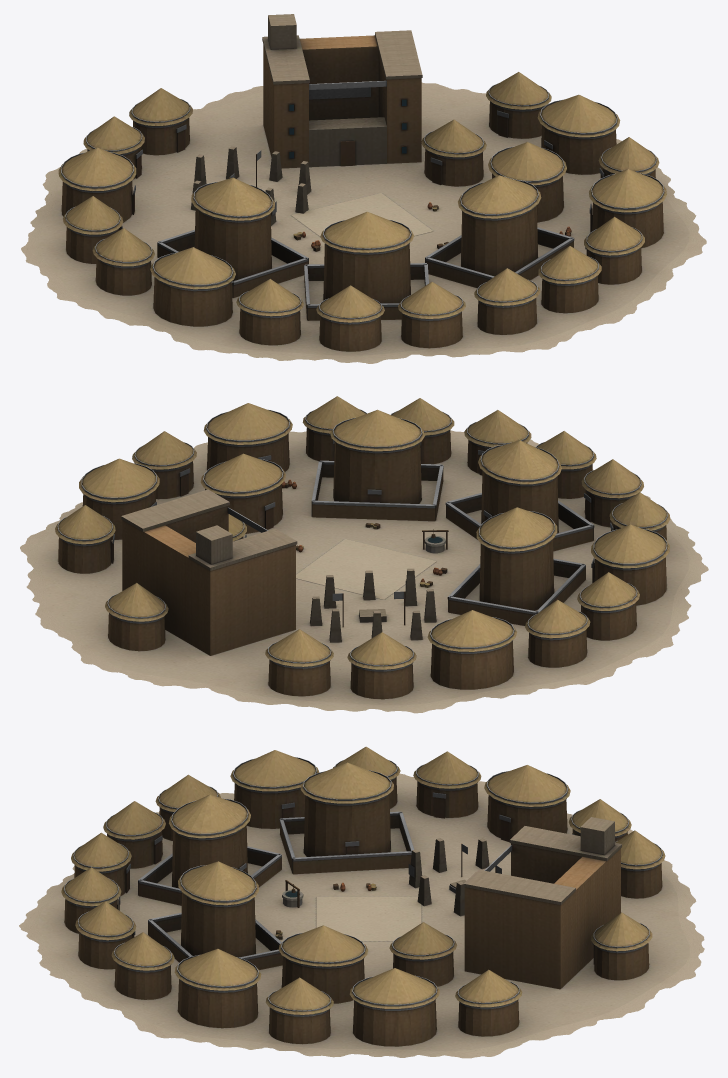
Rendered from bronze-town-big-b-maghreb.glb.
The picture shows the model from 3 angles, top to bottom: view 1: azimuth 30°, elevation 25°; view 2: azimuth 150°, elevation 25°; view 3: azimuth 270°, elevation 25°; orthographic projection.
Visible parts, largest first — view 1: LOD0; view 2: LOD0; view 3: LOD0.
Boxes of the visible parts, <box> form: LOD0: <box>21,14,706,363</box>; LOD0: <box>20,396,708,713</box>; LOD0: <box>19,746,704,1058</box>.
Size of what is drawn, in the model's own units: 7.95 by 1.44 by 8.02.
Materials: 3 (3 with a texture image).
